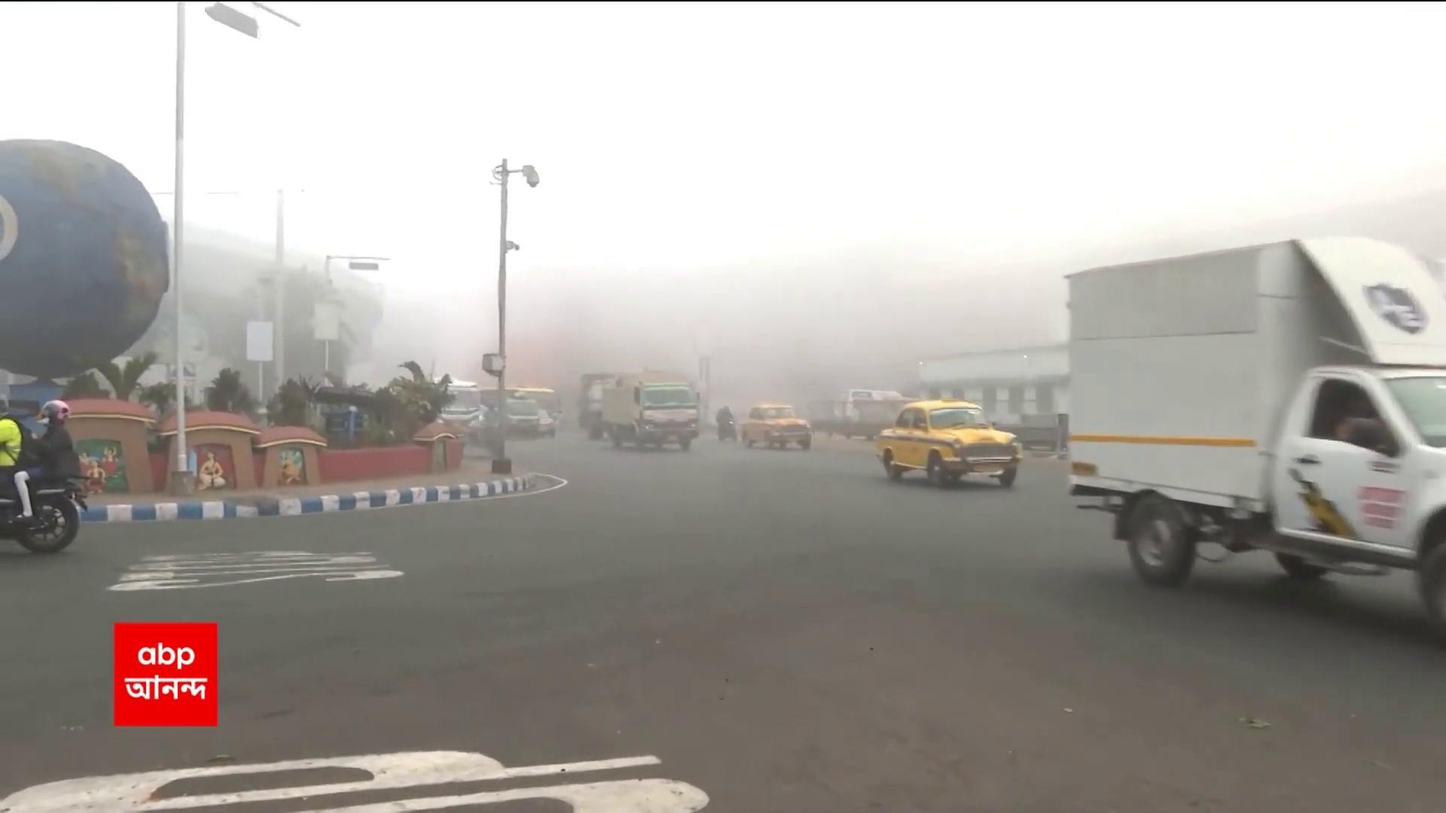Car: (877, 396, 1018, 497), (737, 396, 817, 452)
Truck: (1067, 228, 1446, 609), (608, 366, 705, 454)
